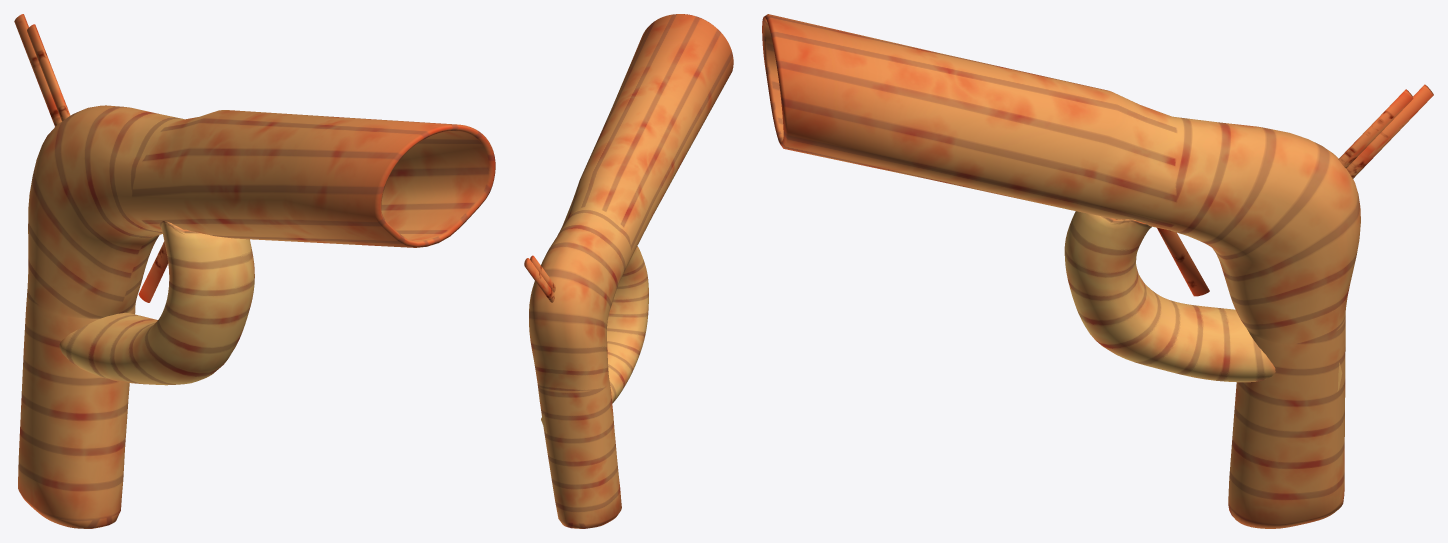
File: PennePistol.fbx
The picture shows the model from 3 angles, left to right: view 1: azimuth 30°, elevation 25°; view 2: azimuth 150°, elevation 25°; view 3: azimuth 270°, elevation 25°; orthographic projection. The views are drawn at different scales.
Parts seen in each view (by area): view 1: Pistol; view 2: Pistol; view 3: Pistol.
Part boxes in pixels (x1,y1,x2,y2): Pistol: (14,14,495,528); Pistol: (524,14,733,528); Pistol: (762,14,1433,528).
Bounding box in the file's own units: 26.78 × 65.63 × 73.3.
